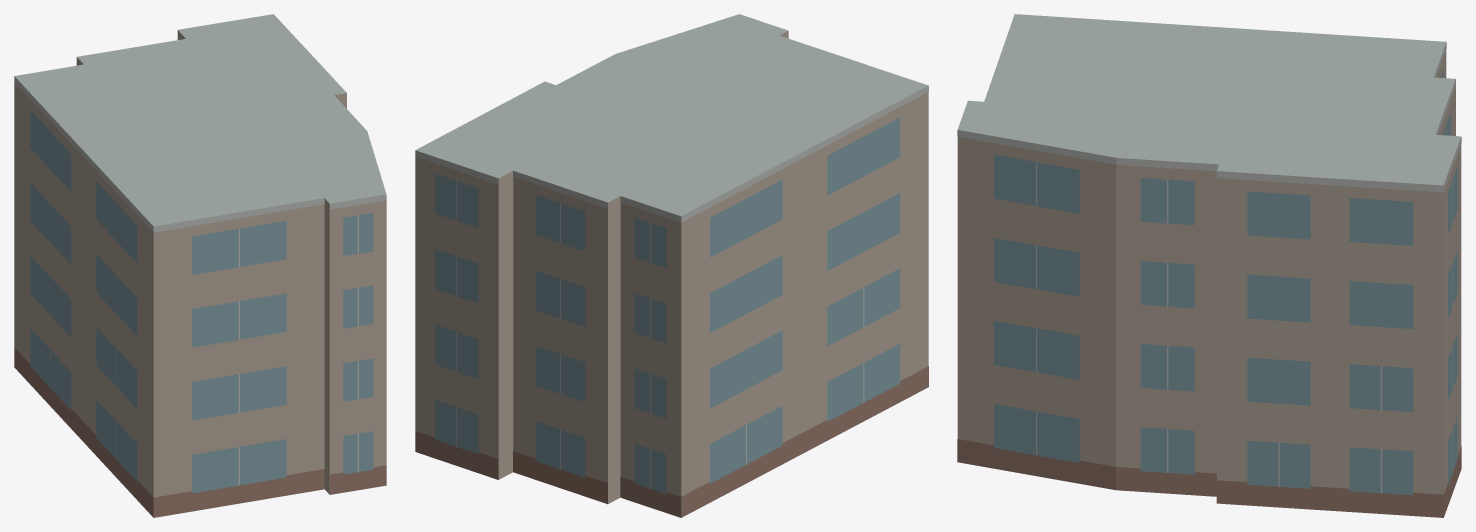
File: survey-upis-32996141.glb
3 views of the same model, side by side, from view 1: azimuth 30°, elevation 25°; view 2: azimuth 150°, elevation 25°; view 3: azimuth 270°, elevation 25° (orthographic). The views are drawn at different scales.
Visible parts, largest first — view 1: survey-upis-32996141.tmp; view 2: survey-upis-32996141.tmp; view 3: survey-upis-32996141.tmp.
Part boxes in pixels (x1,y1,x2,y2): survey-upis-32996141.tmp: (14,14,386,517); survey-upis-32996141.tmp: (415,14,928,517); survey-upis-32996141.tmp: (957,14,1461,517).
Bounding box in the file's own units: 12.84 × 11.6 × 15.95.
